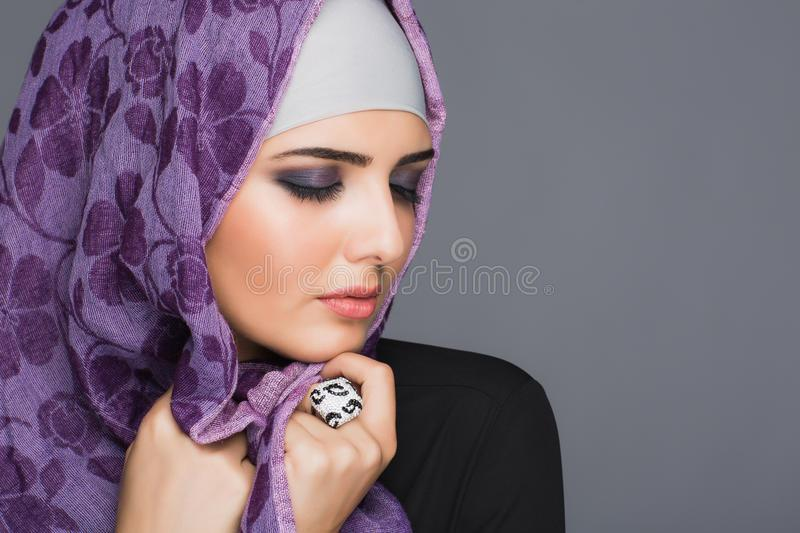No Mask: (206, 60, 486, 398)
